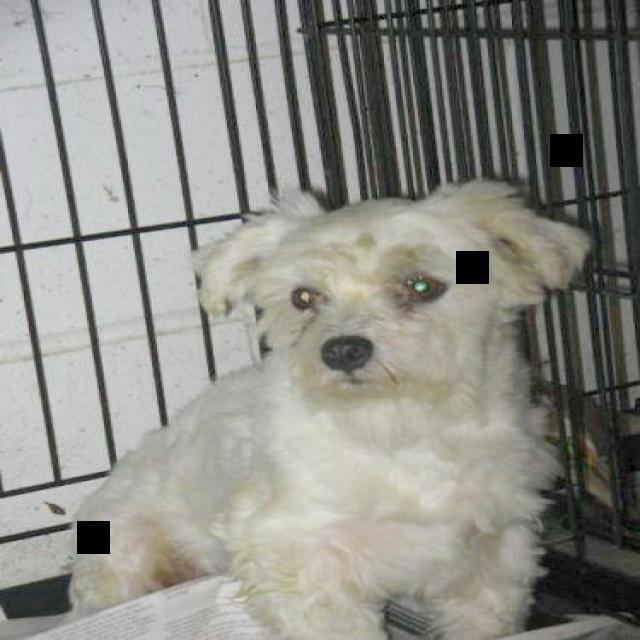adult_dog: (59, 166, 593, 640)
